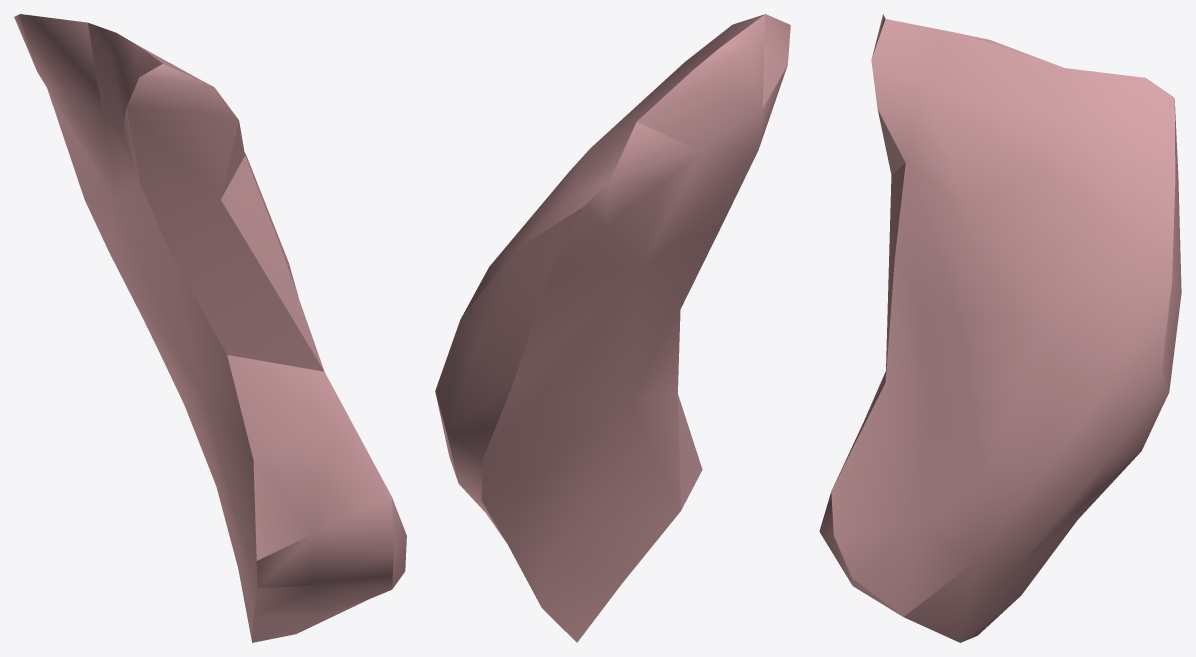
File: fma72728_mm235.glb
3 views of the same model, side by side, from view 1: azimuth 30°, elevation 25°; view 2: azimuth 150°, elevation 25°; view 3: azimuth 270°, elevation 25° (orthographic). The views are drawn at different scales.
Parts seen in each view (by area): view 1: FMA72728_MM235; view 2: FMA72728_MM235; view 3: FMA72728_MM235.
Boxes of the visible parts, x1,y1,x2,y2 form: FMA72728_MM235: (14, 14, 406, 642); FMA72728_MM235: (435, 14, 790, 642); FMA72728_MM235: (819, 14, 1181, 642).
Size of the model in its own units: 0.00982 by 0.0243 by 0.0143.
